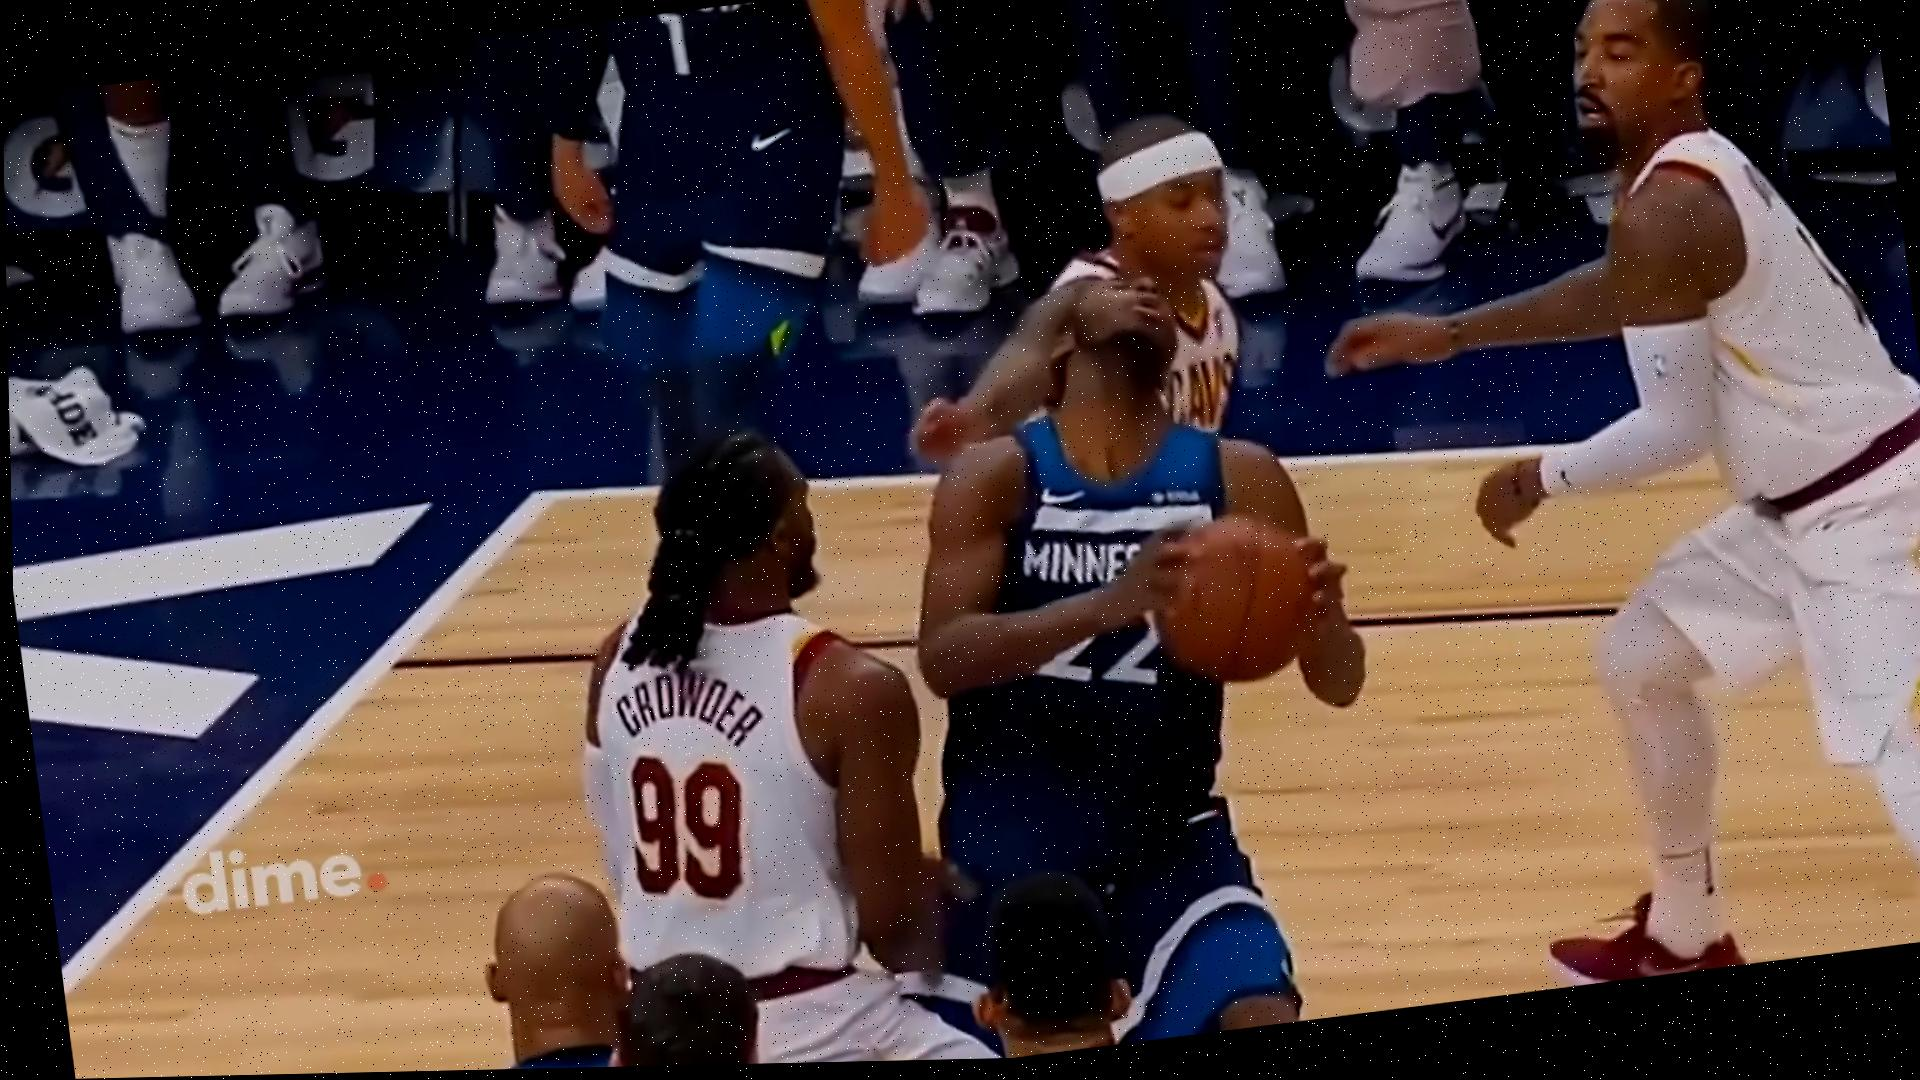no_foul: (864, 138, 1379, 1052)
